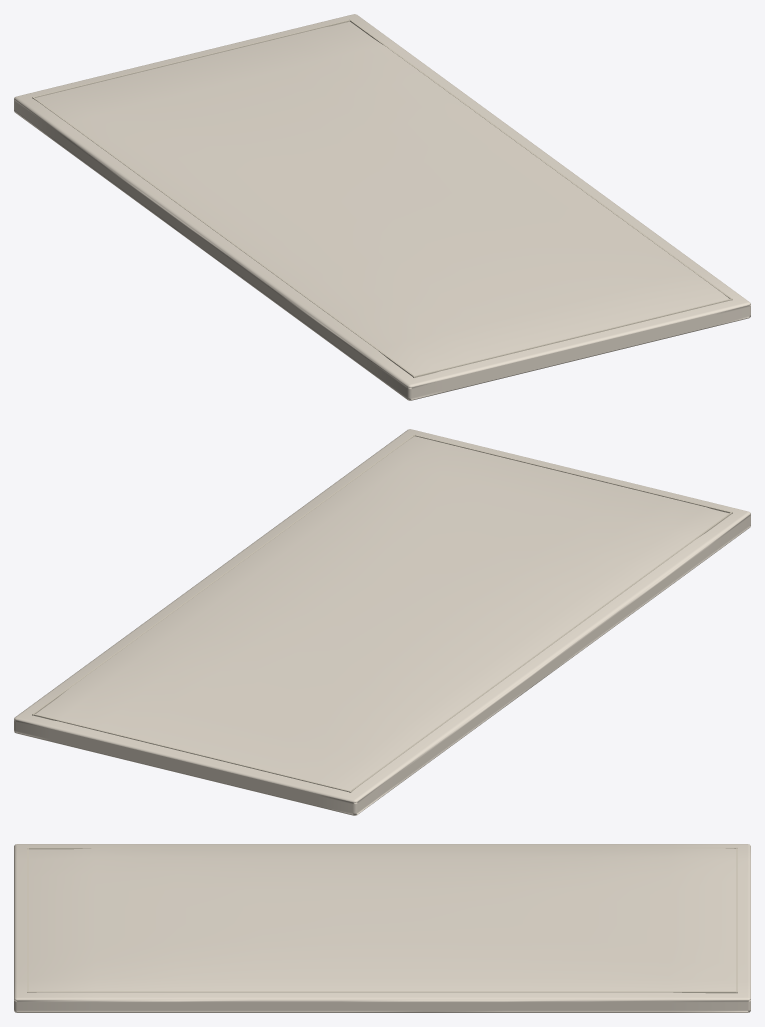
File: futon_floor.glb
The picture shows the model from 3 angles, top to bottom: view 1: azimuth 30°, elevation 25°; view 2: azimuth 150°, elevation 25°; view 3: azimuth 270°, elevation 25°; orthographic projection. The views are drawn at different scales.
Parts seen in each view (by area): view 1: futon_floor; view 2: futon_floor; view 3: futon_floor.
Boxes of the visible parts, box(x1,y1,x2,y2) form: futon_floor: box(14, 14, 750, 400); futon_floor: box(14, 429, 750, 815); futon_floor: box(14, 844, 750, 1012).
Size of the model in its own units: 1 by 0.08 by 2.
